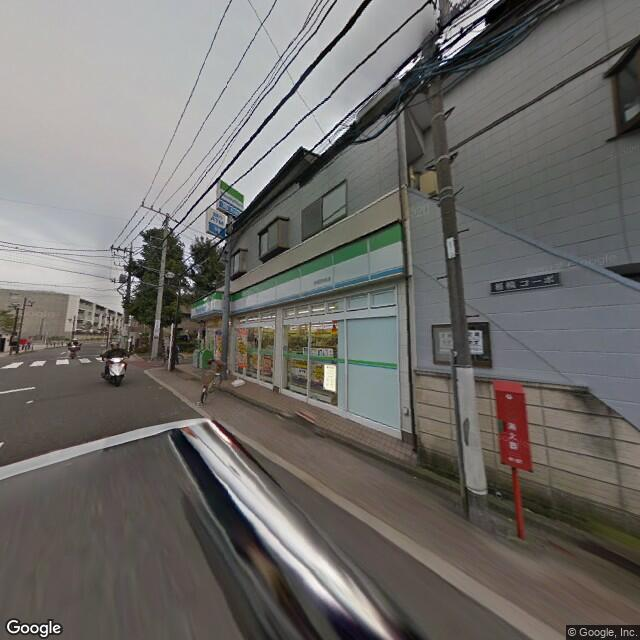family_mart: (185, 218, 408, 323), (219, 179, 244, 215)
